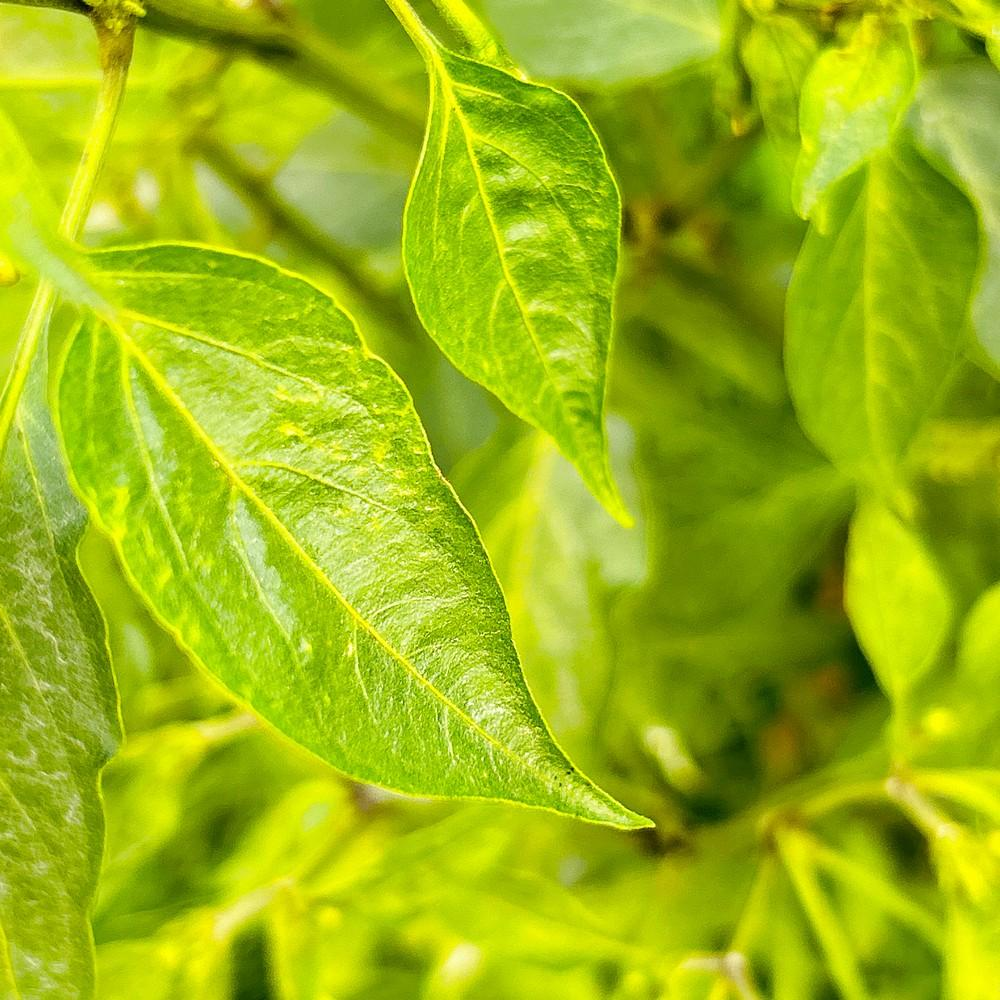Daun Cabai Sehat: (41, 234, 657, 833), (384, 0, 635, 529)
